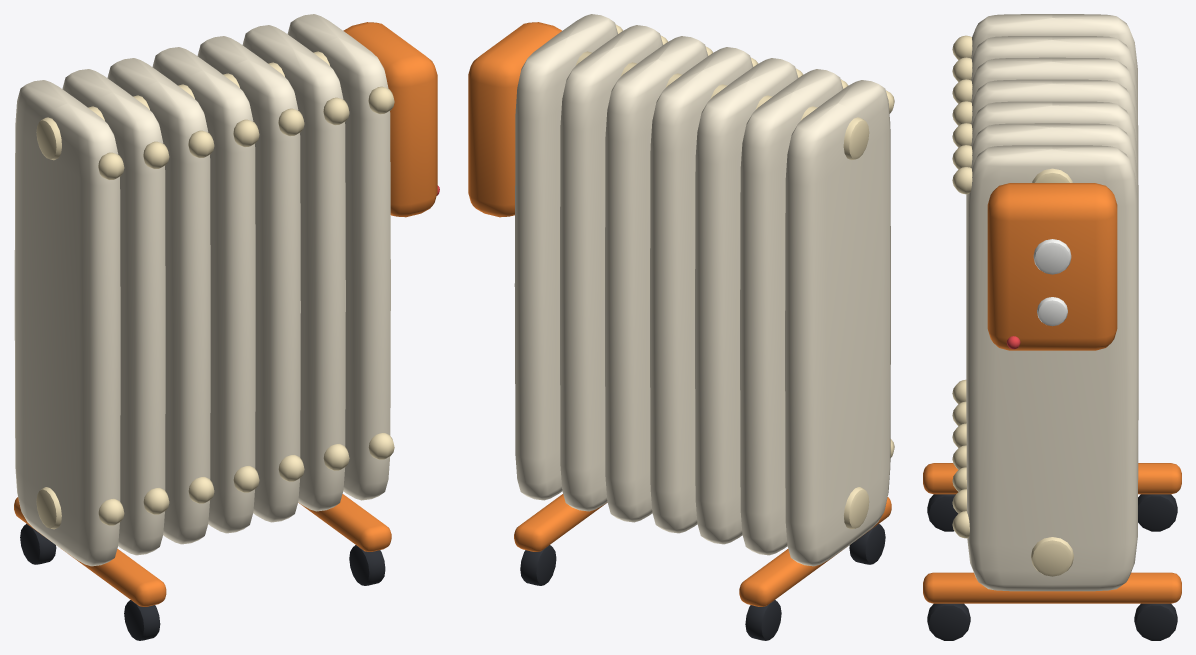
The model's file is aquecedor_oleo.glb.
3 renders of one model, left to right at view 1: azimuth 30°, elevation 25°; view 2: azimuth 150°, elevation 25°; view 3: azimuth 270°, elevation 25°, orthographic.
Parts seen in each view (by area): view 1: aquecedor_oleo; view 2: aquecedor_oleo; view 3: aquecedor_oleo.
Part boxes in pixels (x1,y1,x2,y2): aquecedor_oleo: [14, 14, 439, 640]; aquecedor_oleo: [468, 14, 894, 640]; aquecedor_oleo: [923, 14, 1181, 640].
Size of the model in its own units: 0.4986 by 0.6394 by 0.3.
1 material, 1 textured.
